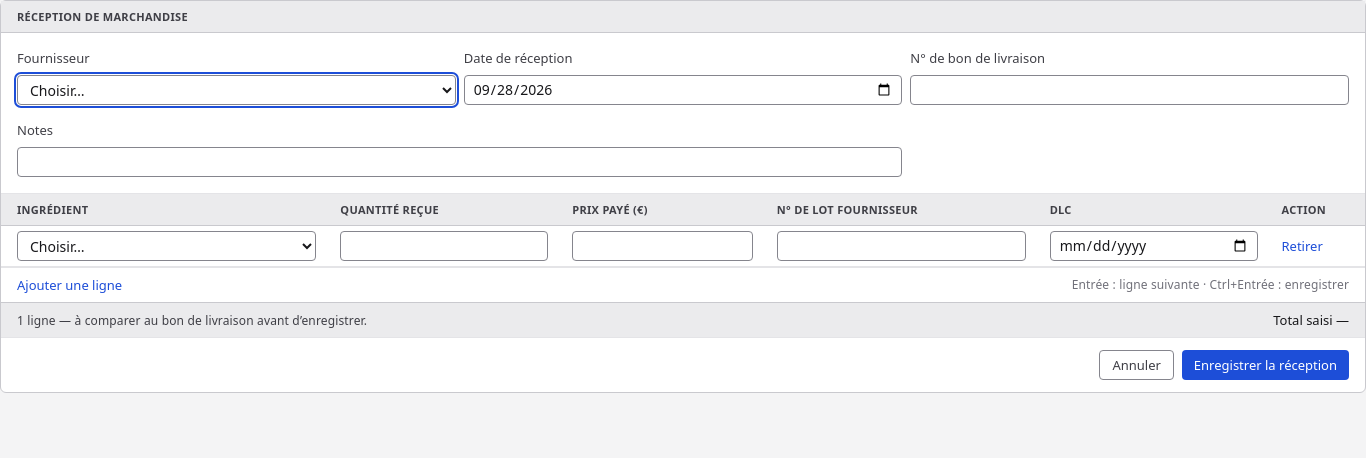
Test: SaisieReception — refus de saisie : aucune pièce ne part incomplète › un fournisseur non choisi bloque, avec son message d’en-tête
Check: the dropdown labelled "Fournisseur" is shown, box [17,75,456,105]
Step 1. Select "Farine de froment T55" in the dropdown named "Ingrédient, ligne 1" → coordinates (167, 246), box [17,231,316,261]
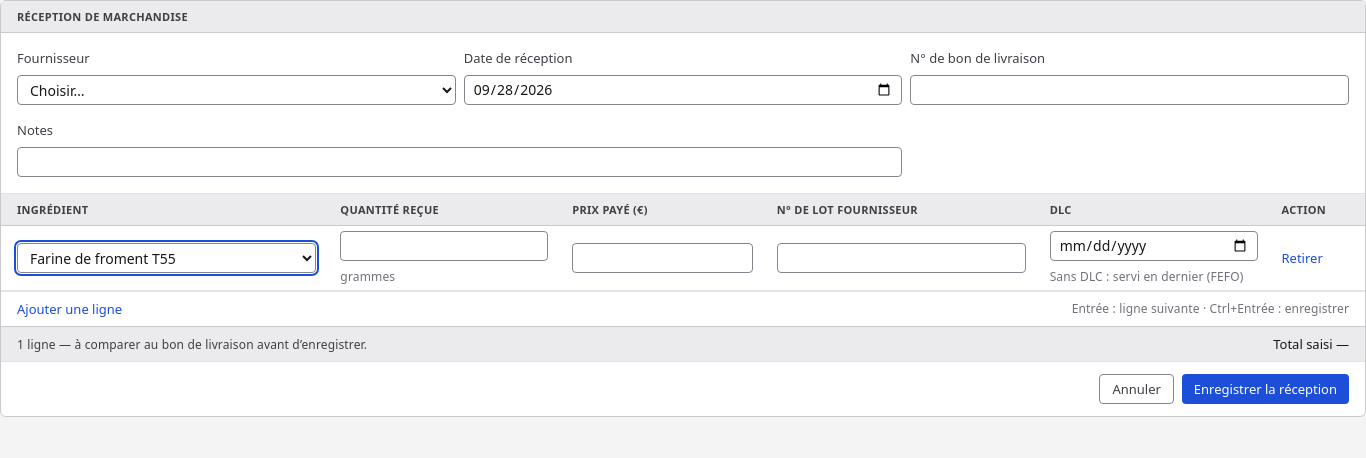
Step 2. Type "25000" into the field named "Quantité reçue, ligne 1" → coordinates (444, 246), box [340,231,548,261]
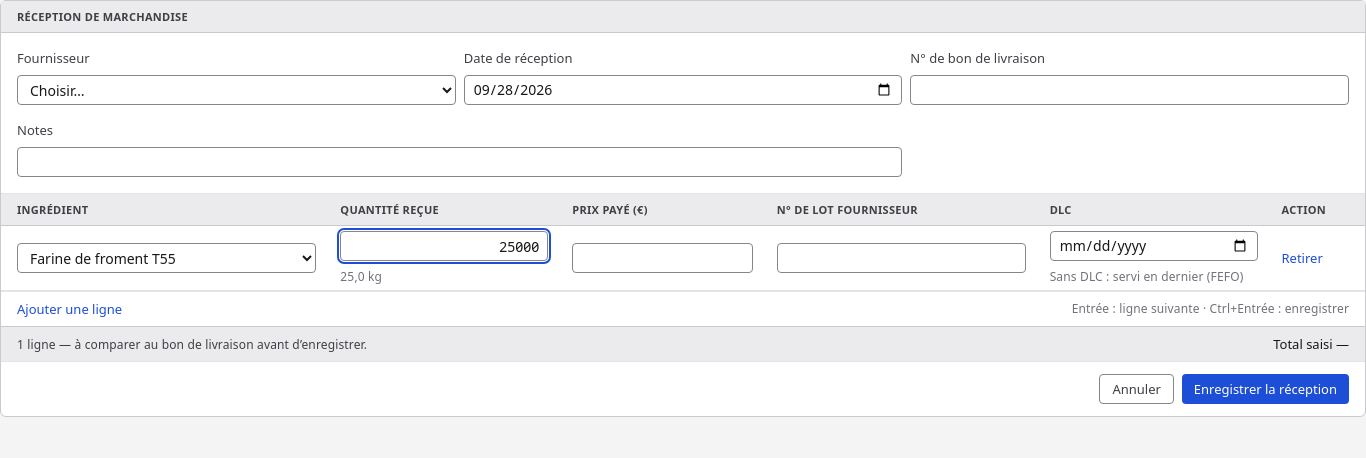
Step 3. Type "18,75" into the field named "Prix payé pour la ligne 1, en euros" → coordinates (662, 258), box [572,243,753,273]
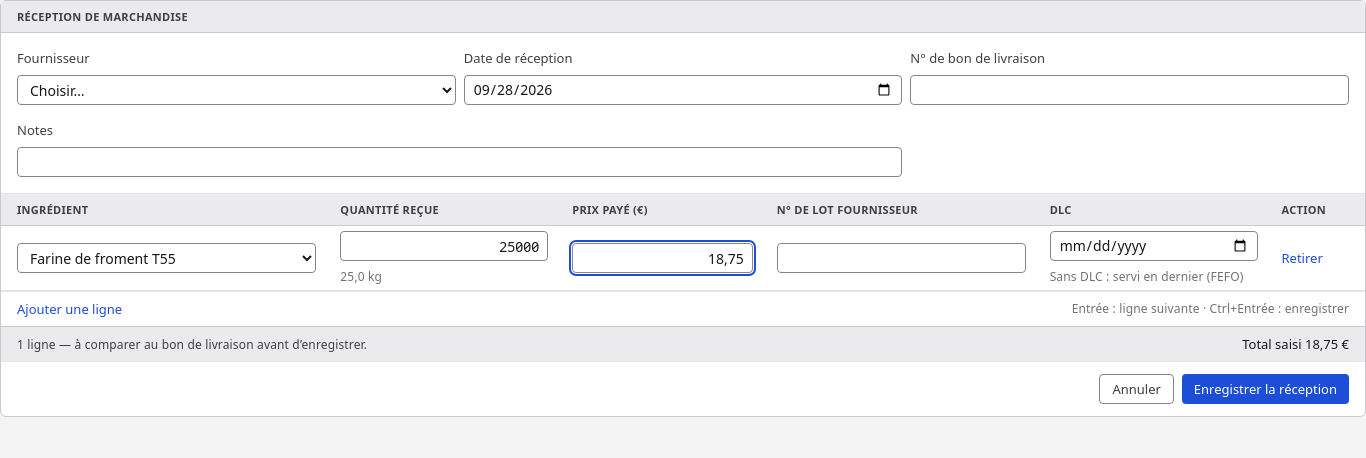
Step 4. Type "LOT-2026-0731-A" into the field named "Numéro de lot fournisseur, ligne 1" → coordinates (901, 258), box [777,243,1026,273]
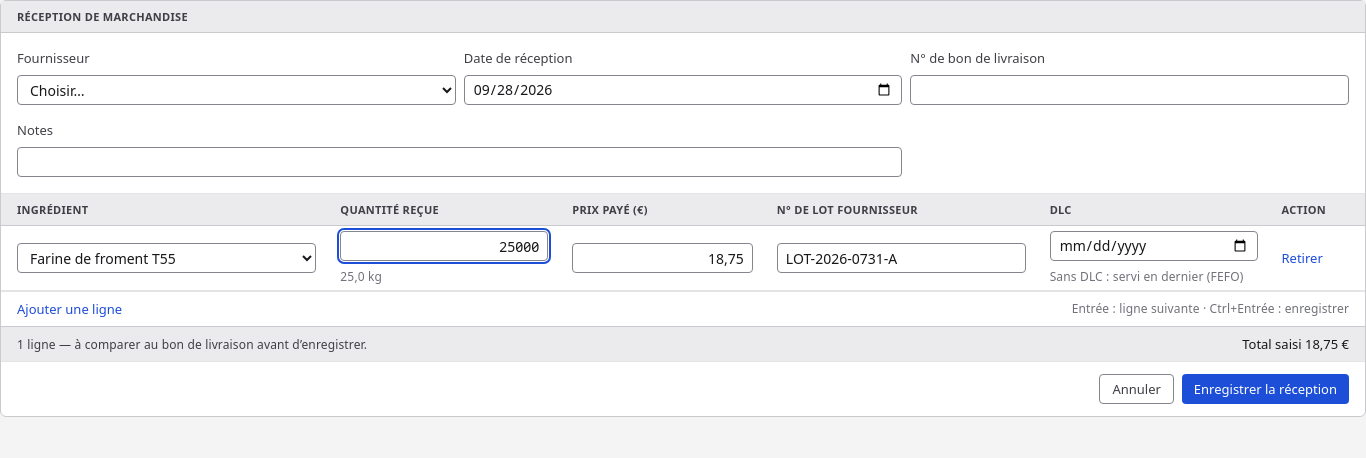
Step 5. Type keys "{Control>}s{/Control}"
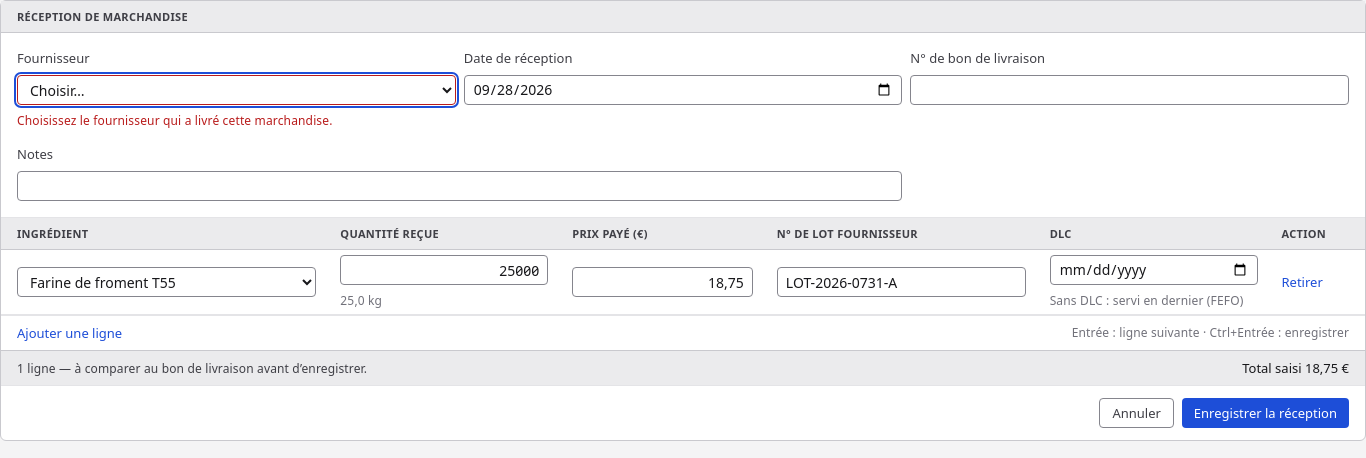
Check: the text "Choisissez le fournisseur qui a livré cette marchandise." is shown, box [17,112,333,129]
